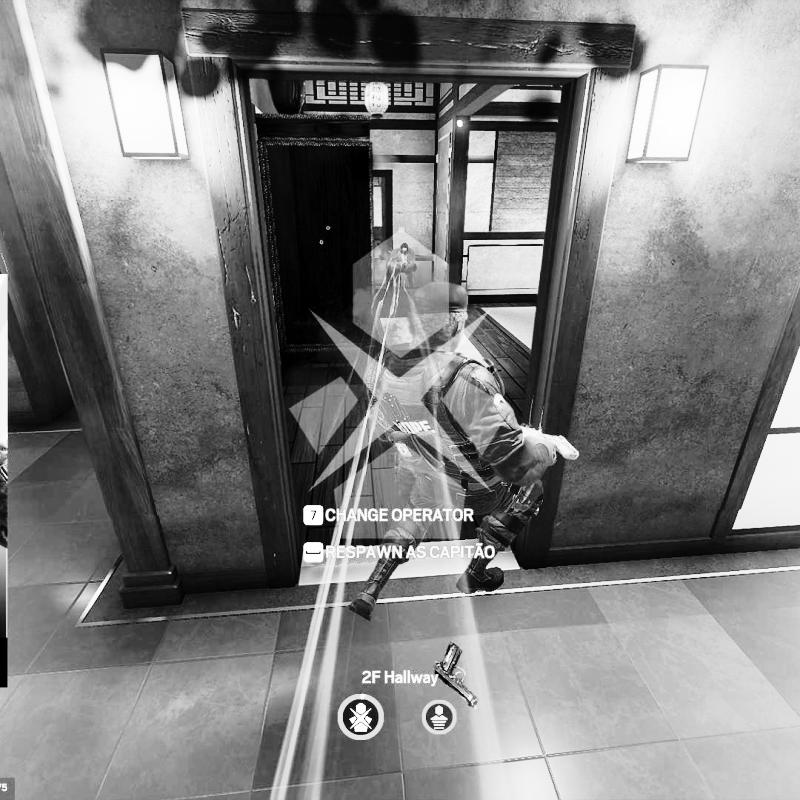Character: (333, 278, 582, 624), (384, 241, 422, 288)
Head: (408, 283, 470, 352), (400, 241, 410, 256)
